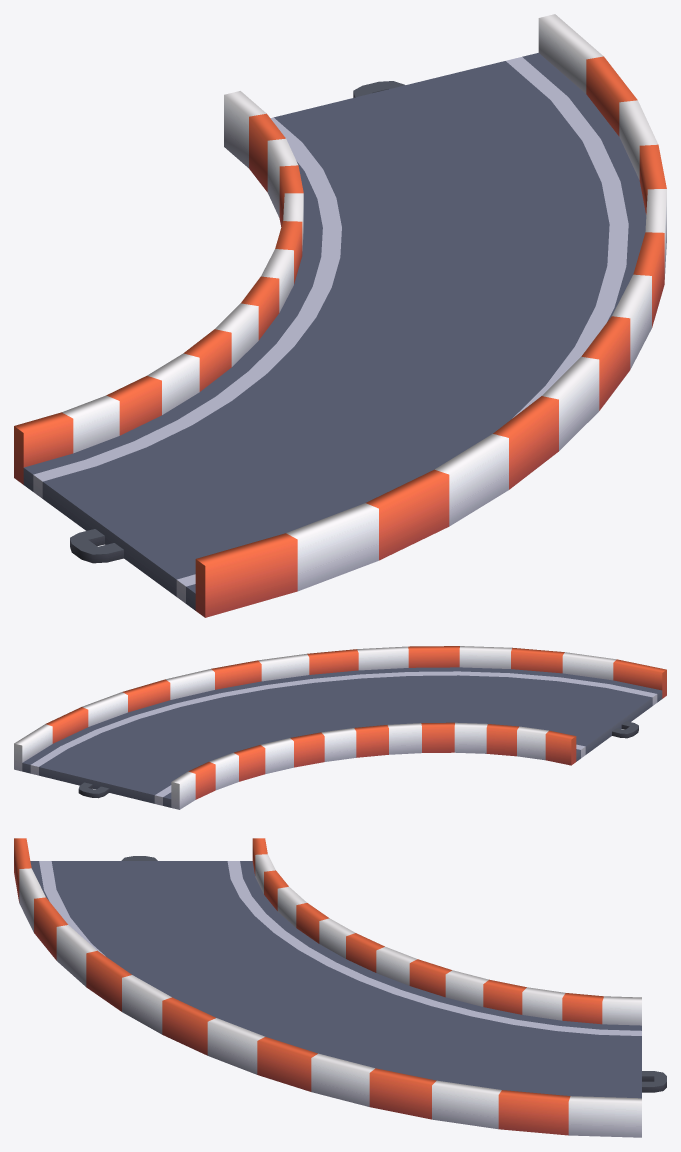
Rendered from track-road-wide-corner-large.glb.
3 views of the same model, one above another, from view 1: azimuth 30°, elevation 25°; view 2: azimuth 150°, elevation 25°; view 3: azimuth 270°, elevation 25° (orthographic). The views are drawn at different scales.
Parts seen in each view (by area): view 1: track-road-wide-corner-large; view 2: track-road-wide-corner-large; view 3: track-road-wide-corner-large.
Boxes of the visible parts, x1,y1,x2,y2 form: track-road-wide-corner-large: [14, 14, 666, 617]; track-road-wide-corner-large: [14, 646, 666, 809]; track-road-wide-corner-large: [14, 838, 666, 1137].
Size of the model in its own units: 5.2 by 0.3003 by 5.2.
Materials: 1 (1 with a texture image).
